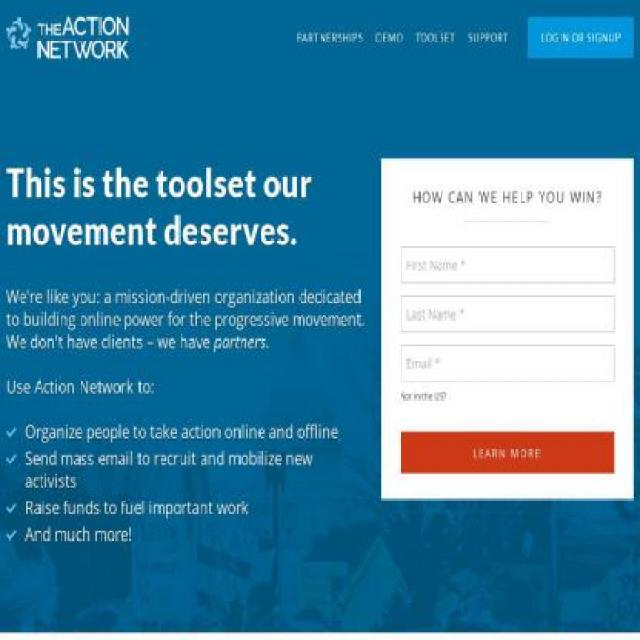button: (6, 17, 131, 58), (528, 17, 634, 58), (297, 17, 363, 58), (468, 17, 509, 58), (416, 17, 456, 58), (399, 384, 447, 408), (375, 17, 403, 58)
field: (400, 432, 614, 473), (400, 344, 614, 382), (400, 246, 614, 283), (400, 296, 614, 332)
